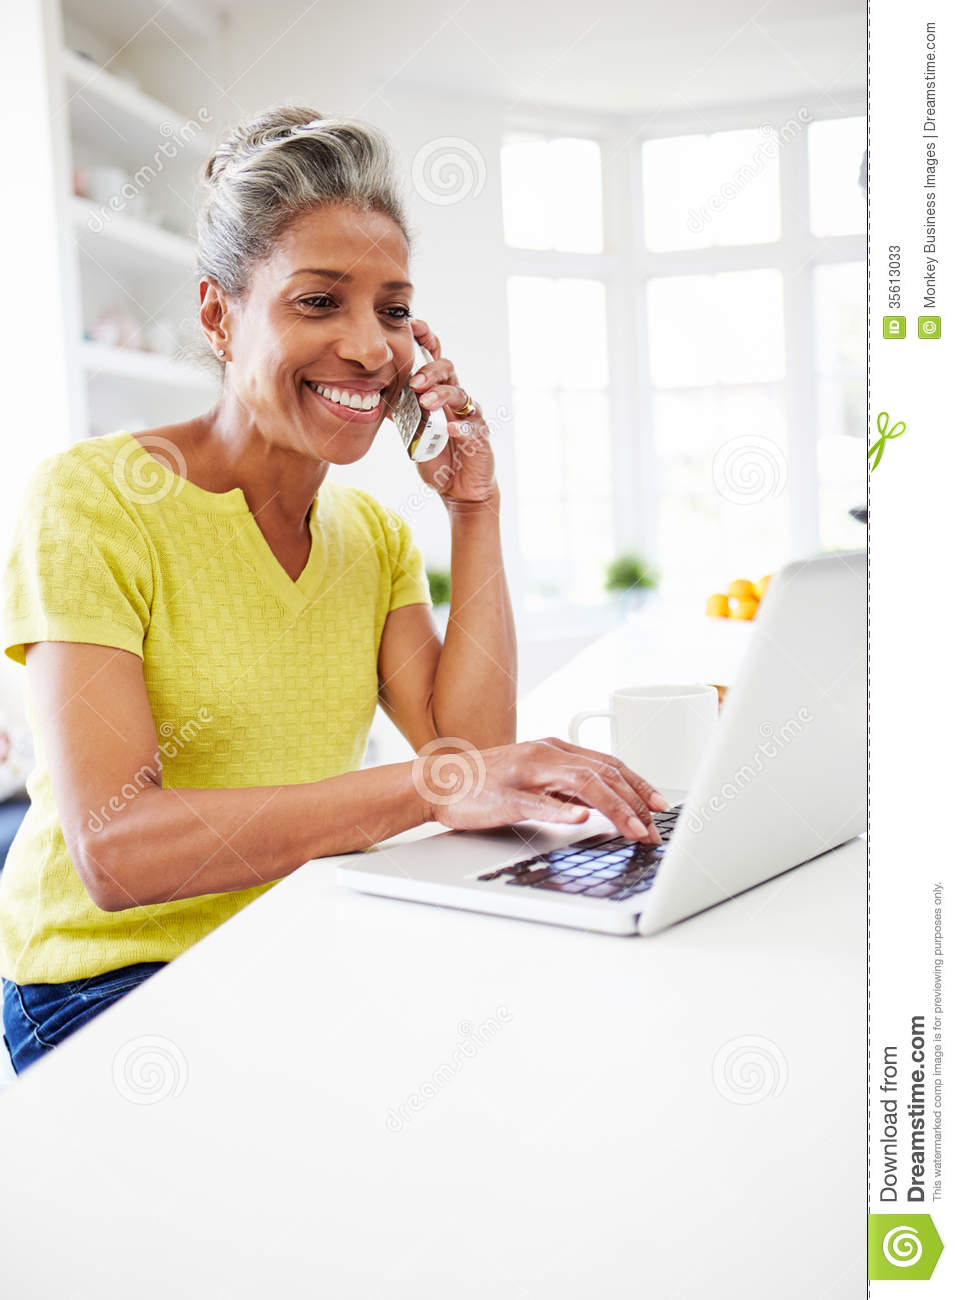phone: (389, 351, 445, 467)
talk: (272, 258, 496, 540)
